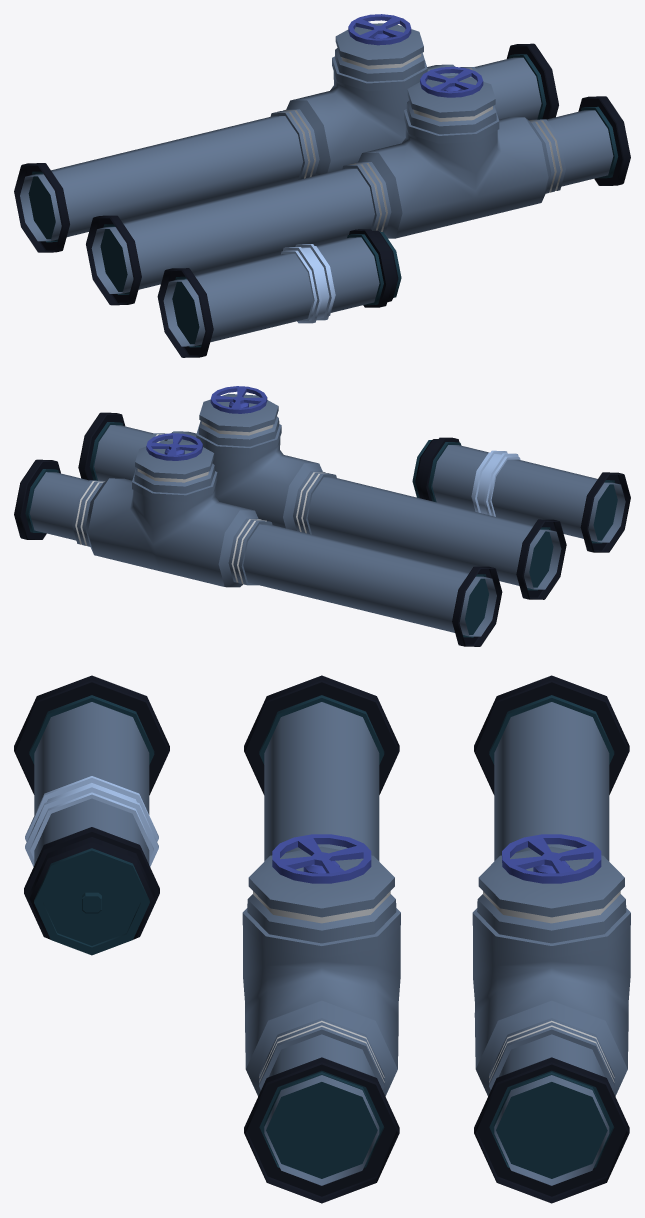
File: PipeComplexSmall_A_05.fbx
The picture shows the model from 3 angles, top to bottom: view 1: azimuth 30°, elevation 25°; view 2: azimuth 150°, elevation 25°; view 3: azimuth 270°, elevation 25°; orthographic projection. The views are drawn at different scales.
Visible parts, largest first — view 1: PipeComplexSmall_A_05.001; view 2: PipeComplexSmall_A_05.001; view 3: PipeComplexSmall_A_05.001.
Boxes of the visible parts, x1,y1,x2,y2 form: PipeComplexSmall_A_05.001: (14, 14, 630, 357); PipeComplexSmall_A_05.001: (14, 386, 630, 646); PipeComplexSmall_A_05.001: (14, 675, 630, 1203).
Size of the model in its own units: 0.8 by 0.2185 by 0.5367.
